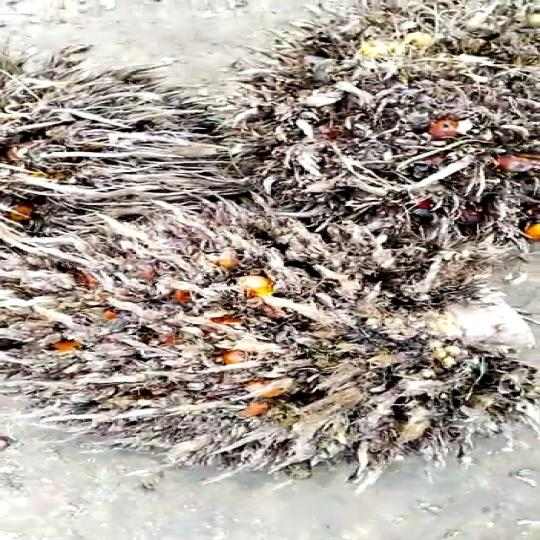terlalu masak: (17, 184, 540, 494), (207, 0, 540, 234)
